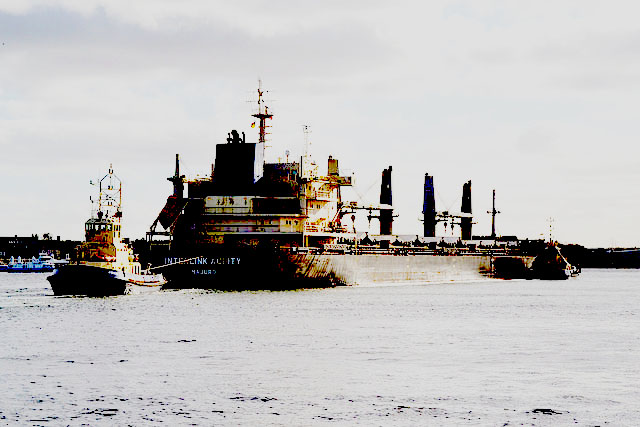bulk carrier: (159, 76, 537, 291)
tug_boat: (45, 160, 165, 296), (527, 212, 587, 278)
